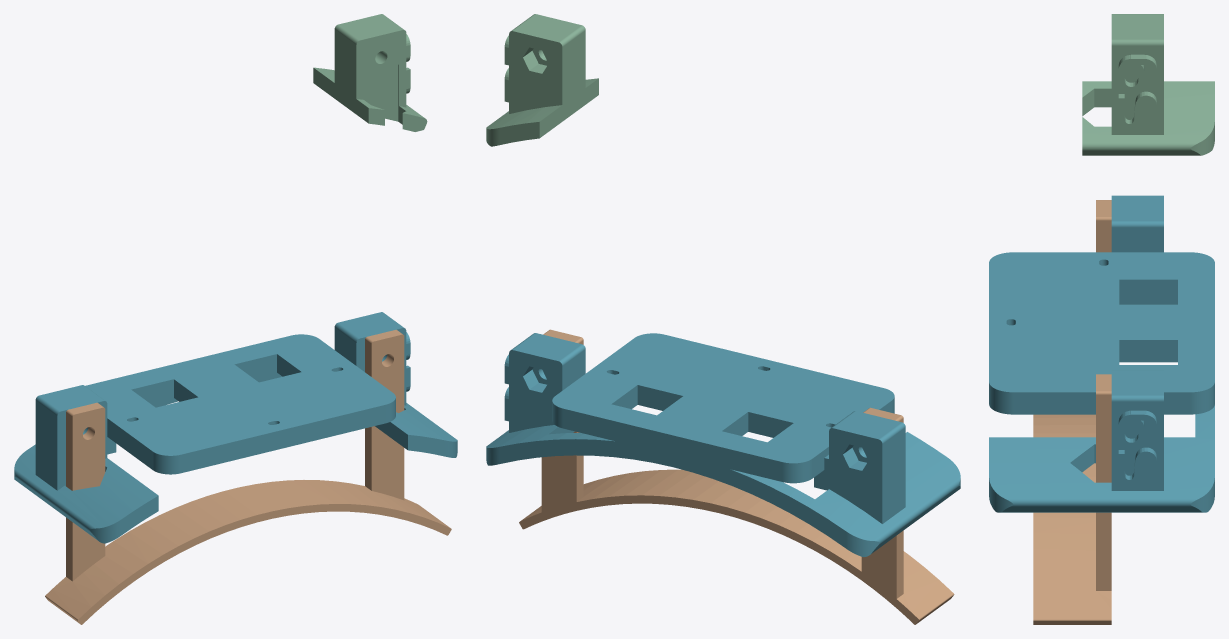
Rendered from R10_ASSIEME_PETGSTICA.glb.
The picture shows the model from 3 angles, left to right: view 1: azimuth 30°, elevation 25°; view 2: azimuth 150°, elevation 25°; view 3: azimuth 270°, elevation 25°; orthographic projection. The views are drawn at different scales.
Visible parts, largest first — view 1: base_appoggi, ponte_terminale, provino_supporti; view 2: base_appoggi, ponte_terminale, provino_supporti; view 3: base_appoggi, ponte_terminale, provino_supporti.
Boxes of the visible parts, box(x1,y1,x2,y2) form: base_appoggi: box(14, 312, 457, 543); ponte_terminale: box(45, 329, 451, 624); provino_supporti: box(313, 14, 427, 131); base_appoggi: box(486, 333, 960, 556); ponte_terminale: box(519, 329, 954, 624); provino_supporti: box(486, 14, 598, 146); base_appoggi: box(989, 195, 1214, 512); ponte_terminale: box(1033, 200, 1111, 624); provino_supporti: box(1082, 14, 1214, 155).
Bounding box in the file's own units: 0.105 × 0.13 × 0.046.
